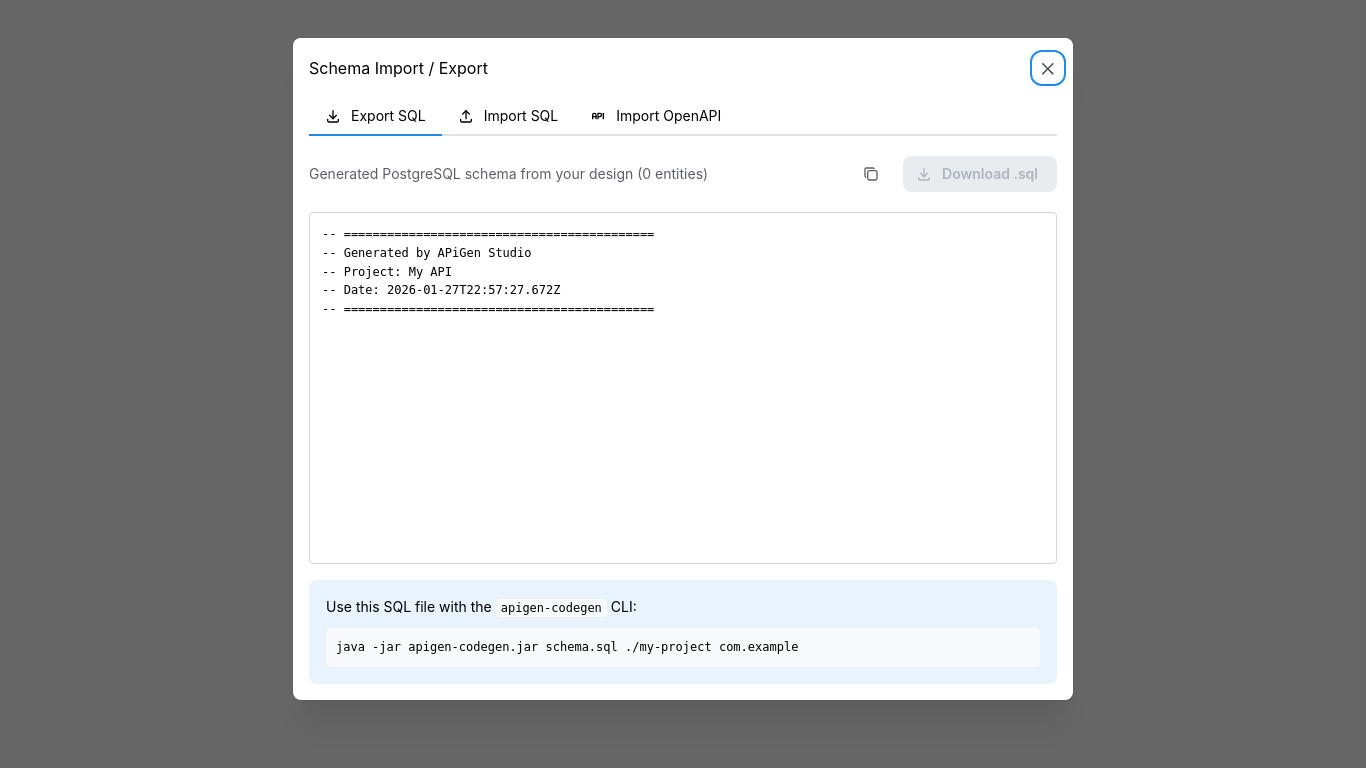
Test: SqlImportExport › Import Tab › should show dropzone in import tab
The image size is (1366, 768).
What coordinates should you click on to do the following:
click the tab "Import SQL"
I would click on:
 (508, 117)
Its box is [442,98,574,136].
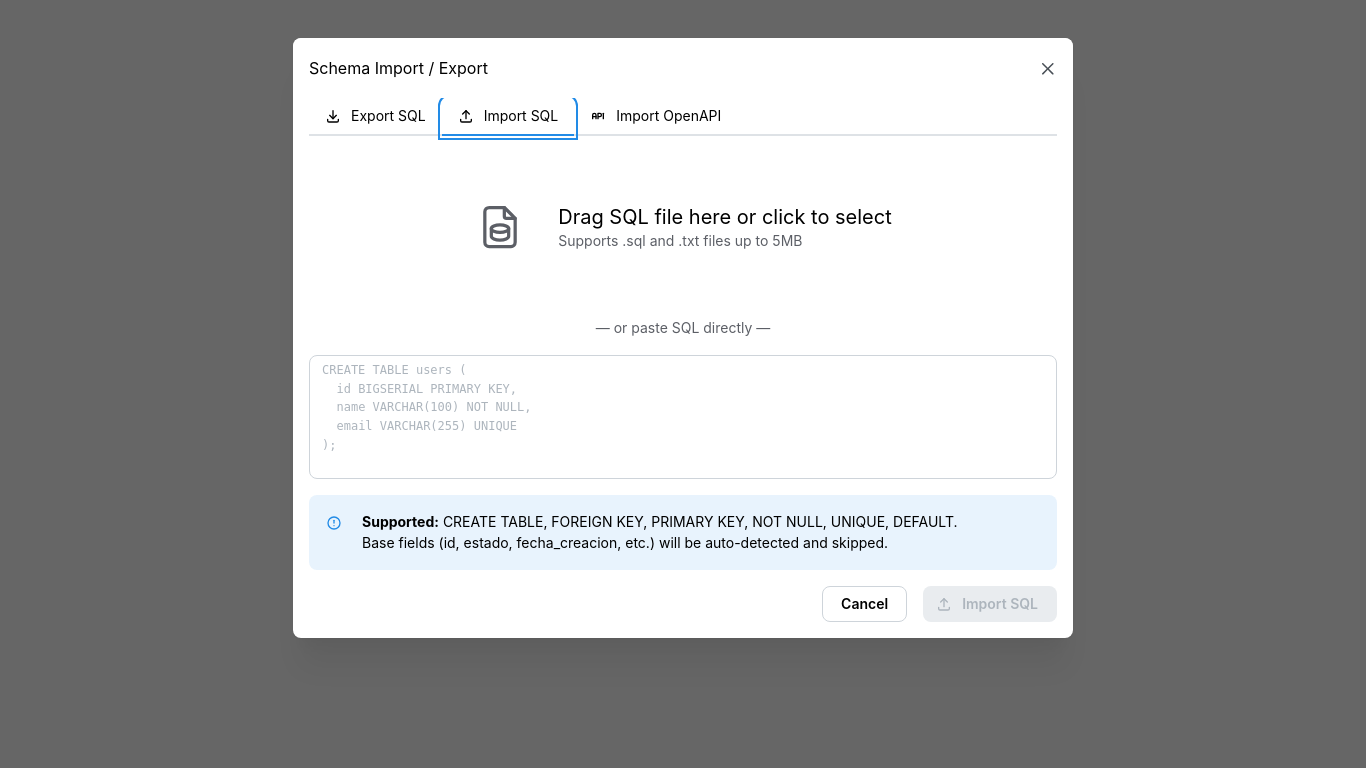
Now the text "Drag SQL file here or click to select" is shown, box [558,207,892,227]
